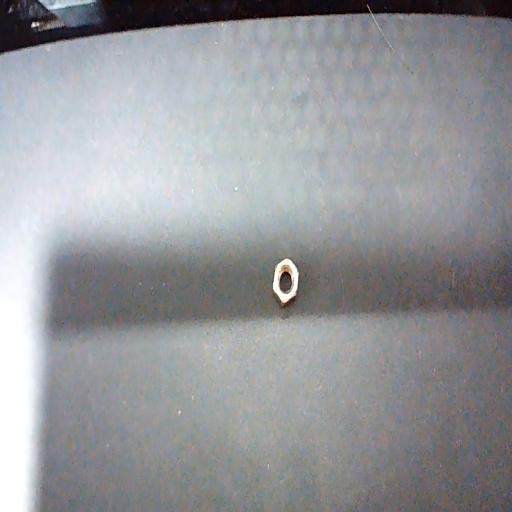nut: (272, 258, 298, 307)
